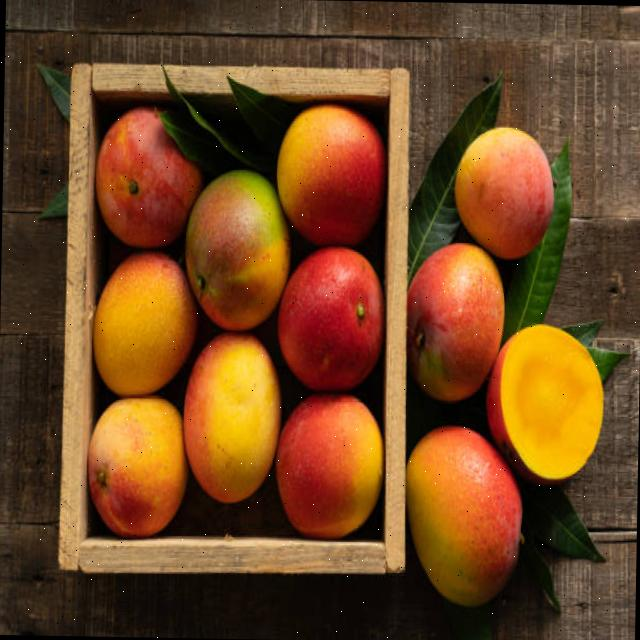mango: (406, 426, 521, 606), (486, 324, 602, 484), (185, 169, 290, 330), (183, 334, 280, 502), (407, 243, 504, 401), (278, 246, 384, 390), (275, 396, 382, 538), (95, 107, 203, 247), (276, 105, 385, 243), (93, 252, 197, 395), (87, 397, 187, 536), (455, 127, 554, 258)
